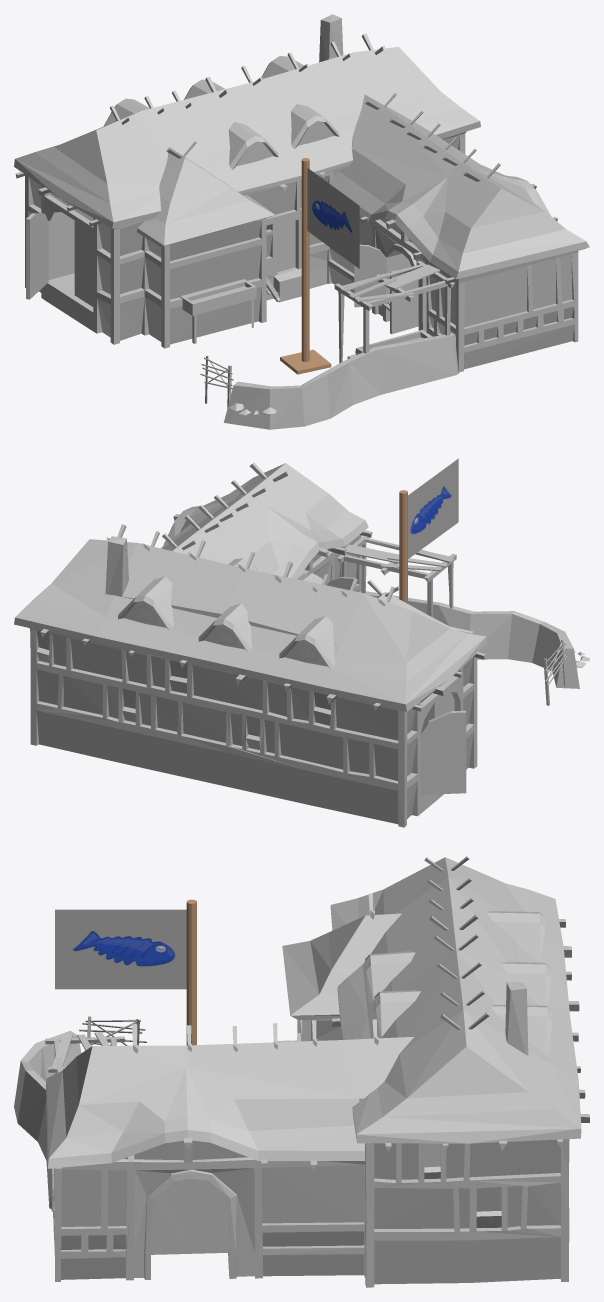
File: NeutralHouse.fbx
The picture shows the model from 3 angles, top to bottom: view 1: azimuth 30°, elevation 25°; view 2: azimuth 150°, elevation 25°; view 3: azimuth 270°, elevation 25°; orthographic projection. The views are drawn at different scales.
Visible parts, largest first — view 1: building:DrawCall_3, building:DrawCall_0, building:DrawCall_1, flag1, flagbase, building:DrawCall_2; view 2: building:DrawCall_0, building:DrawCall_3, building:DrawCall_1, flag1, building:DrawCall_4, flagbase; view 3: building:DrawCall_3, building:DrawCall_0, flag1, building:DrawCall_1, flagbase, building:DrawCall_4.
Part boxes in pixels (x1,y1,x2,y2): building:DrawCall_3: (14,46,589,342); building:DrawCall_0: (15,14,585,429); building:DrawCall_1: (26,126,440,334); flag1: (307,168,359,268); flagbase: (280,158,331,374); building:DrawCall_2: (277,220,295,271); building:DrawCall_0: (29,462,589,827); building:DrawCall_3: (14,463,487,711); building:DrawCall_1: (133,544,466,794); flag1: (408,458,458,558); building:DrawCall_4: (36,630,330,736); flagbase: (399,490,407,603); building:DrawCall_3: (46,857,581,1168); building:DrawCall_0: (14,856,589,1287); flag1: (55,909,186,989); building:DrawCall_1: (51,1032,229,1254); flagbase: (186,899,196,1045); building:DrawCall_4: (424,1146,501,1211).
Bounding box in the file's own units: 23.13 × 11.32 × 22.
